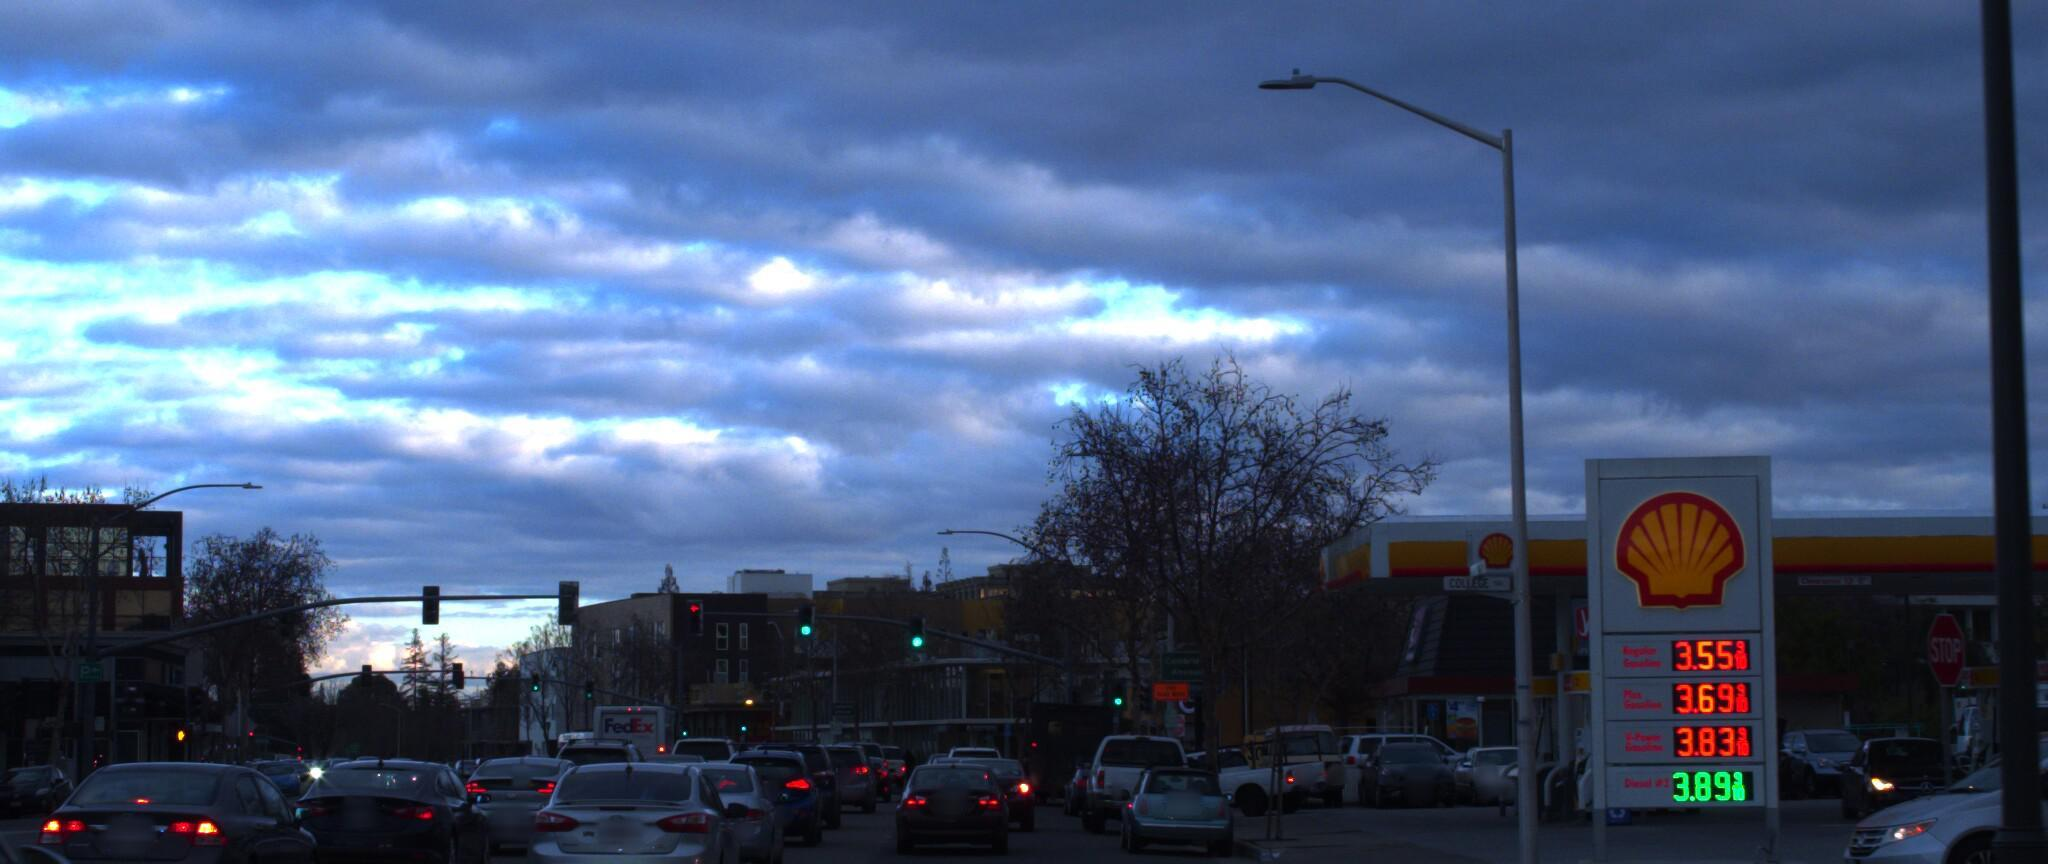car: (1, 747, 353, 864), (1801, 700, 2048, 864), (0, 692, 178, 864), (508, 747, 748, 864), (269, 747, 502, 864), (626, 747, 782, 864), (1126, 723, 1334, 808), (456, 743, 619, 850), (1785, 732, 1957, 824), (1068, 715, 1194, 822), (882, 744, 1010, 847), (538, 731, 660, 829), (725, 745, 846, 841), (1110, 743, 1226, 842), (743, 723, 839, 814), (1341, 720, 1448, 794), (1432, 726, 1546, 794), (963, 741, 1057, 817), (815, 733, 887, 801)
